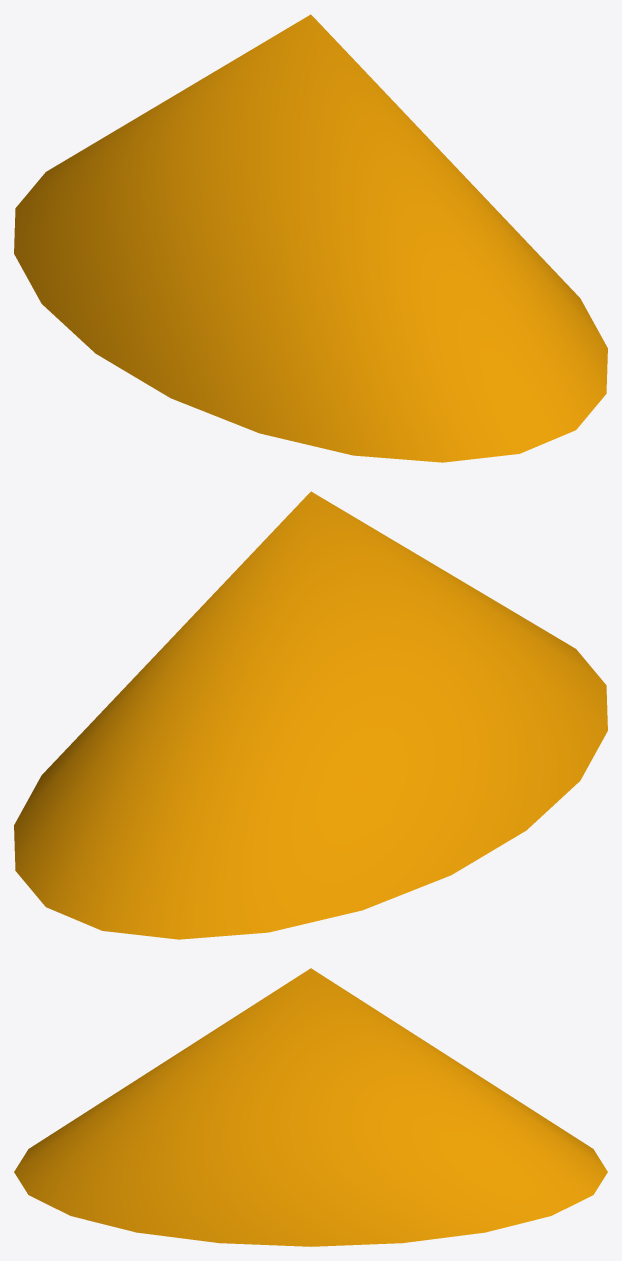
File: Mountain Orange .fbx
The picture shows the model from 3 angles, top to bottom: view 1: azimuth 30°, elevation 25°; view 2: azimuth 150°, elevation 25°; view 3: azimuth 270°, elevation 25°; orthographic projection. The views are drawn at different scales.
Visible parts, largest first — view 1: polySurface18; view 2: polySurface18; view 3: polySurface18.
Part boxes in pixels (left/top/right/bottom): polySurface18: left=14, top=14, right=607, bottom=462; polySurface18: left=14, top=491, right=607, bottom=939; polySurface18: left=14, top=968, right=607, bottom=1246.
Bounding box in the file's own units: 7.95 × 5.06 × 13.35.
